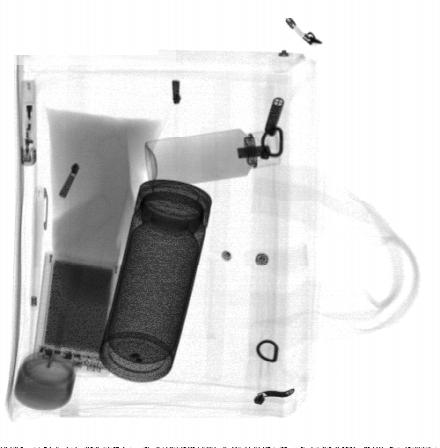Lighter: (20, 80, 37, 168)
Powerbank: (32, 250, 123, 378)
Sprayer: (145, 128, 281, 188)
